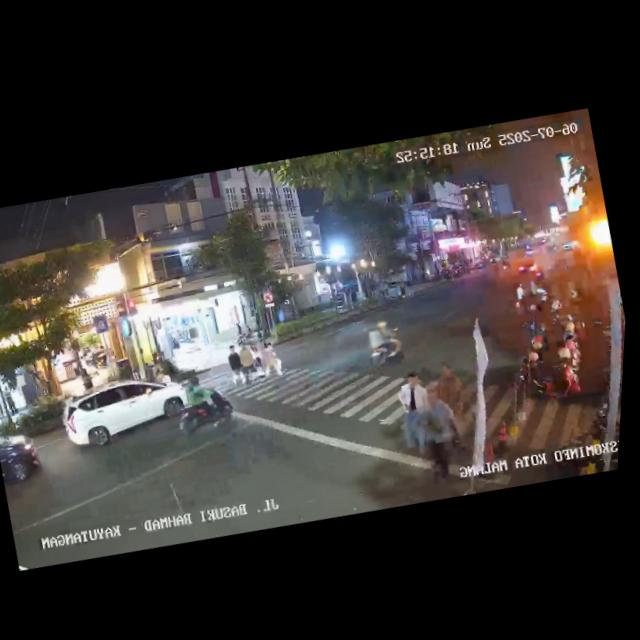car: (53, 363, 190, 464), (0, 421, 49, 492)
motorcycle: (168, 366, 241, 442), (361, 314, 410, 373), (509, 279, 533, 317)
person: (407, 382, 471, 485), (389, 368, 440, 454), (428, 359, 469, 420), (222, 341, 248, 389), (260, 338, 286, 381), (235, 339, 258, 385), (247, 339, 269, 381), (2, 383, 19, 416), (397, 278, 410, 299), (0, 389, 6, 422)
